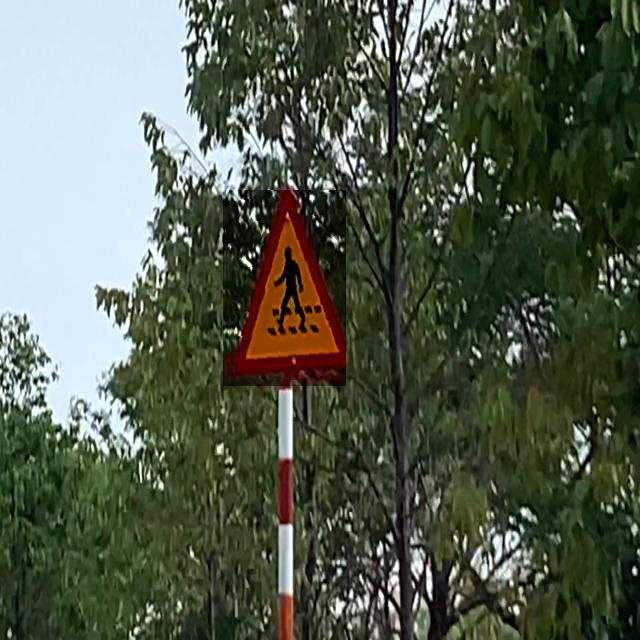bien_nguy_hiem: (223, 190, 346, 386)
